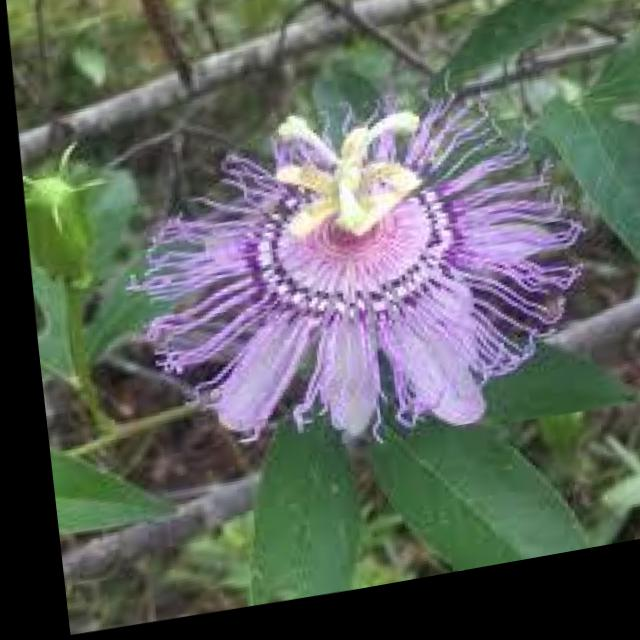Flower: (86, 76, 602, 485)
